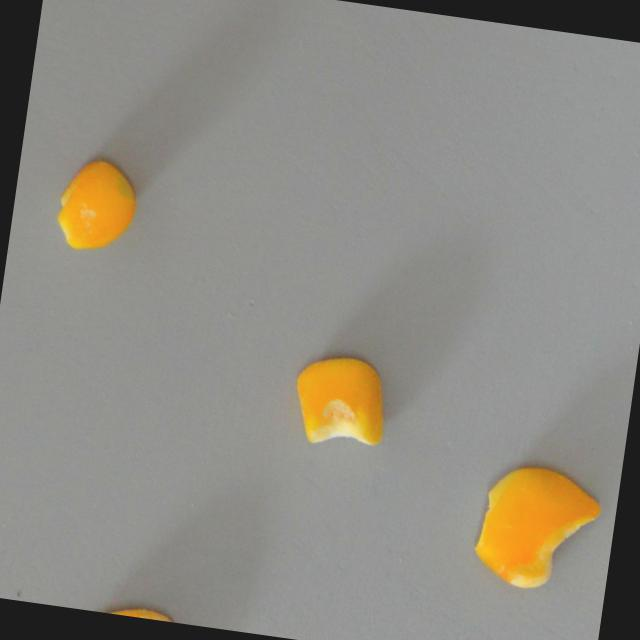no_canjicado: (471, 459, 604, 598), (288, 350, 395, 453), (51, 153, 141, 257)
